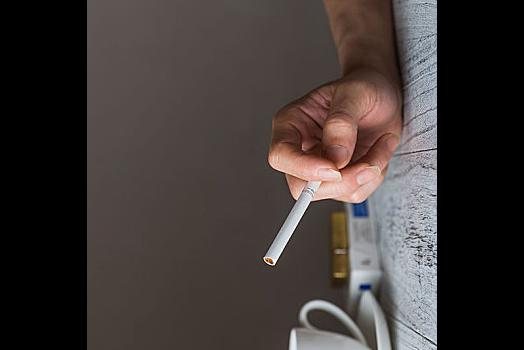Cigarette: (262, 174, 325, 264)
